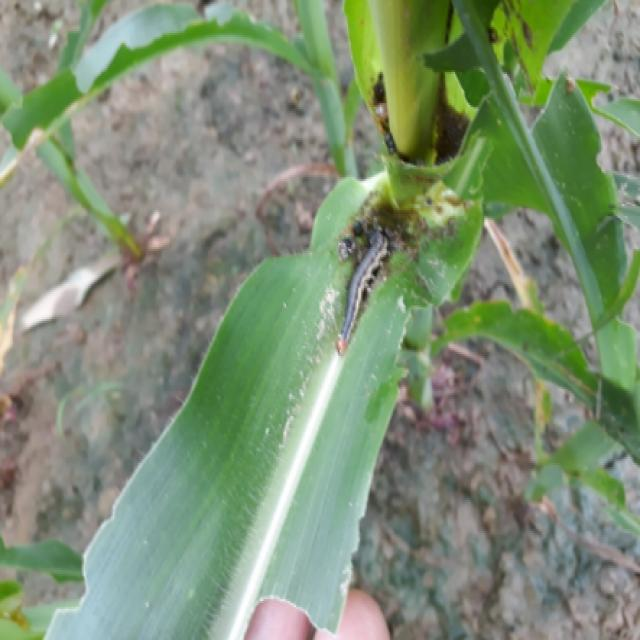cornborer-Larva-: (333, 226, 391, 366)
